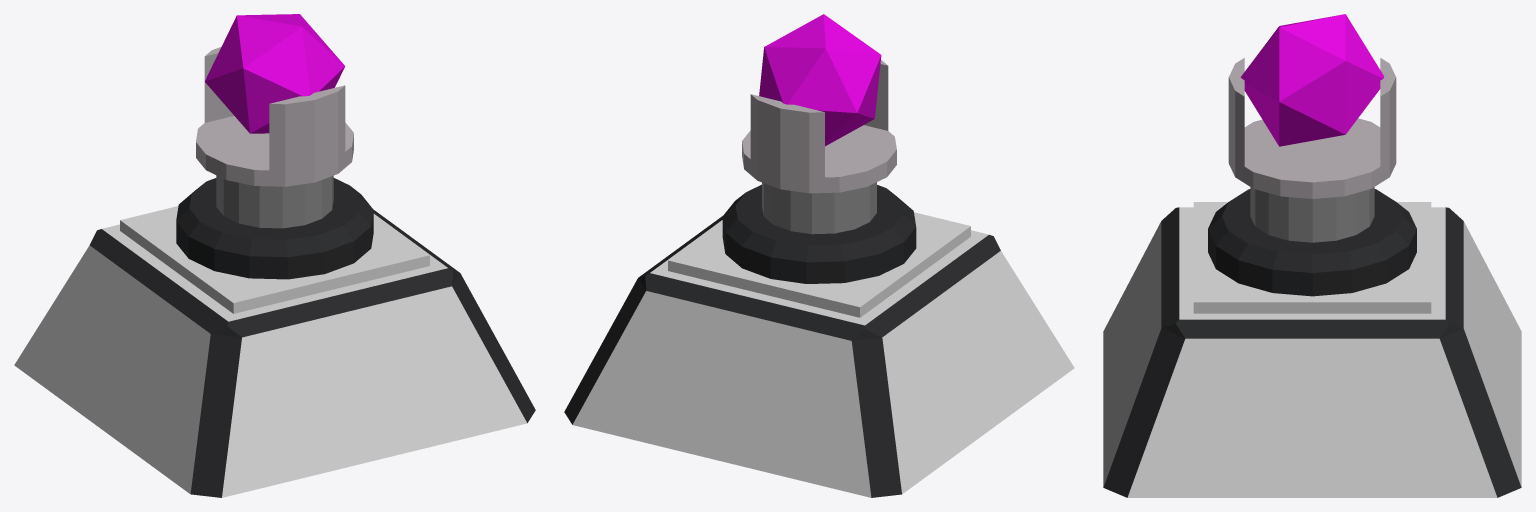
Rendered from warp.dae.
3 views of the same model, side by side, from view 1: azimuth 30°, elevation 25°; view 2: azimuth 150°, elevation 25°; view 3: azimuth 270°, elevation 25° (orthographic). The views are drawn at different scales.
Visible parts, largest first — view 1: tower, Cylinder, Icosphere, base; view 2: tower, Cylinder, Icosphere, base; view 3: tower, Icosphere, Cylinder, base.
Boxes of the visible parts, left/top/right/bottom form: tower: left=14, top=178, right=535, bottom=497; Cylinder: left=196, top=46, right=353, bottom=186; Icosphere: left=205, top=14, right=345, bottom=133; base: left=216, top=175, right=333, bottom=228; tower: left=564, top=184, right=1074, bottom=497; Cylinder: left=742, top=60, right=896, bottom=193; Icosphere: left=759, top=14, right=881, bottom=146; base: left=762, top=182, right=876, bottom=234; tower: left=1103, top=189, right=1521, bottom=497; Icosphere: left=1240, top=14, right=1384, bottom=146; Cylinder: left=1228, top=58, right=1396, bottom=198; base: left=1250, top=187, right=1374, bottom=242.
Bounding box in the file's own units: 2 × 2 × 2.05.
